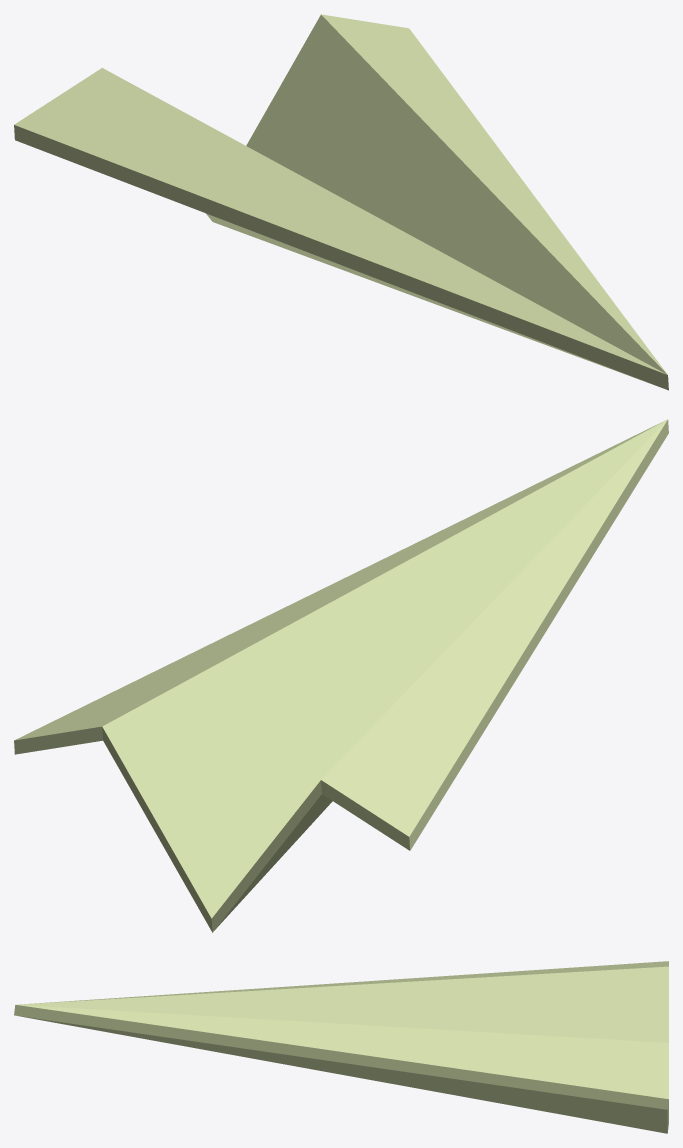
File: Paper Plane.fbx
3 views of the same model, one above another, from view 1: azimuth 30°, elevation 25°; view 2: azimuth 150°, elevation 25°; view 3: azimuth 270°, elevation 25° (orthographic). The views are drawn at different scales.
Parts seen in each view (by area): view 1: V2 Vliegtuigje Papier.001; view 2: V2 Vliegtuigje Papier.001; view 3: V2 Vliegtuigje Papier.001.
Part boxes in pixels (x1,y1,x2,y2): V2 Vliegtuigje Papier.001: (14, 14, 668, 390); V2 Vliegtuigje Papier.001: (14, 419, 668, 932); V2 Vliegtuigje Papier.001: (14, 961, 668, 1133).
Size of the model in its own units: 100 by 200 by 43.58.
